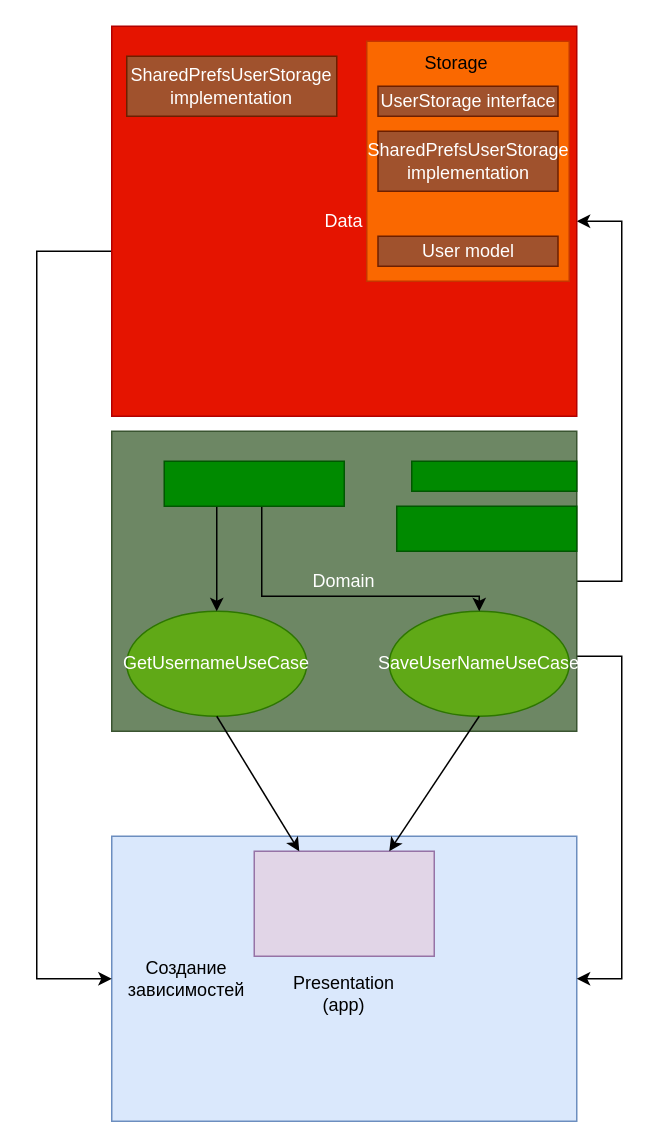
This 660x1148 diagram has some shape labels left out. The shapes that lost their labels are listed below. From the top down, each one's centre as x and y in pixels, then its label:
At point (253, 483): "UserRepository - interface".
At point (493, 475): "UserName model".
At point (486, 528): "SaveUserNameParam model".
At point (343, 903): "Activity".
